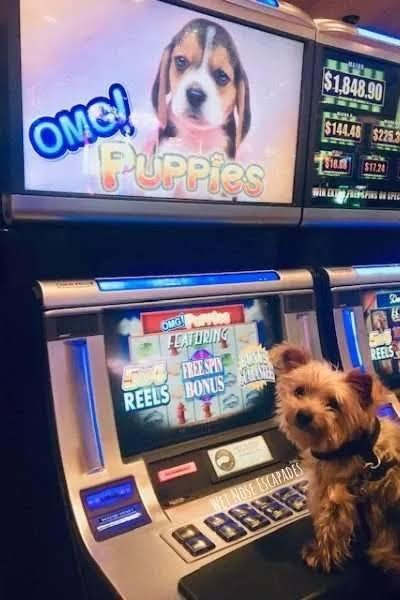adult_dog: (266, 342, 400, 587)
puppy-dog: (131, 17, 253, 161)
